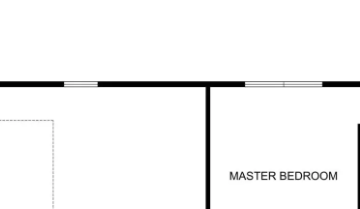window: (238, 72, 332, 101), (58, 69, 103, 104)
